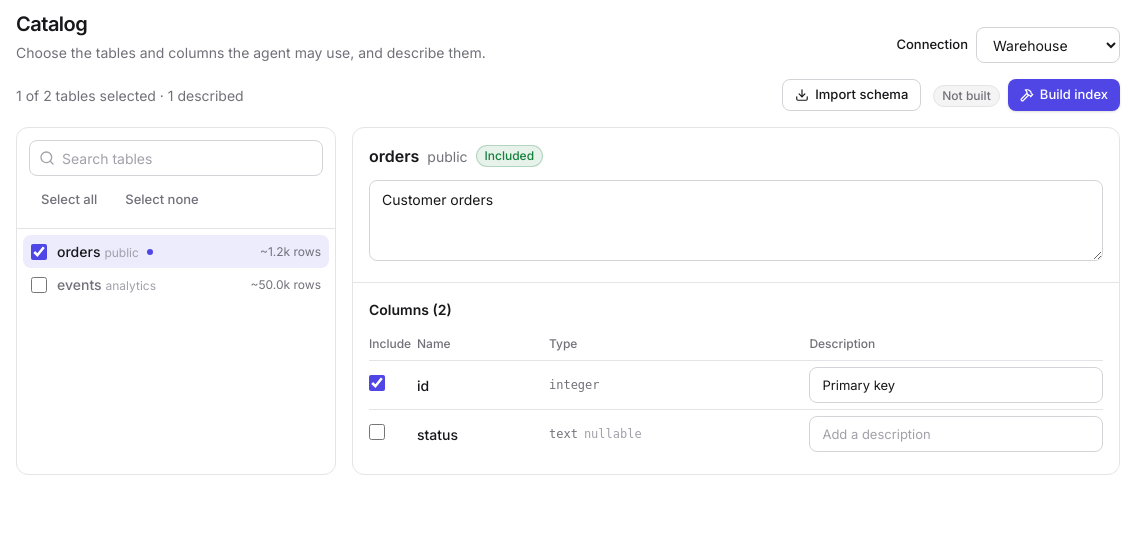
it: table detail and autosave › reverts a column description that fails to save
Expected: the checkbox named "Include public.orders" is shown, [31, 244, 47, 260]
Type "new text" into the field named "Description for public.orders.status" at x=956, y=434, box [809, 416, 1103, 452]
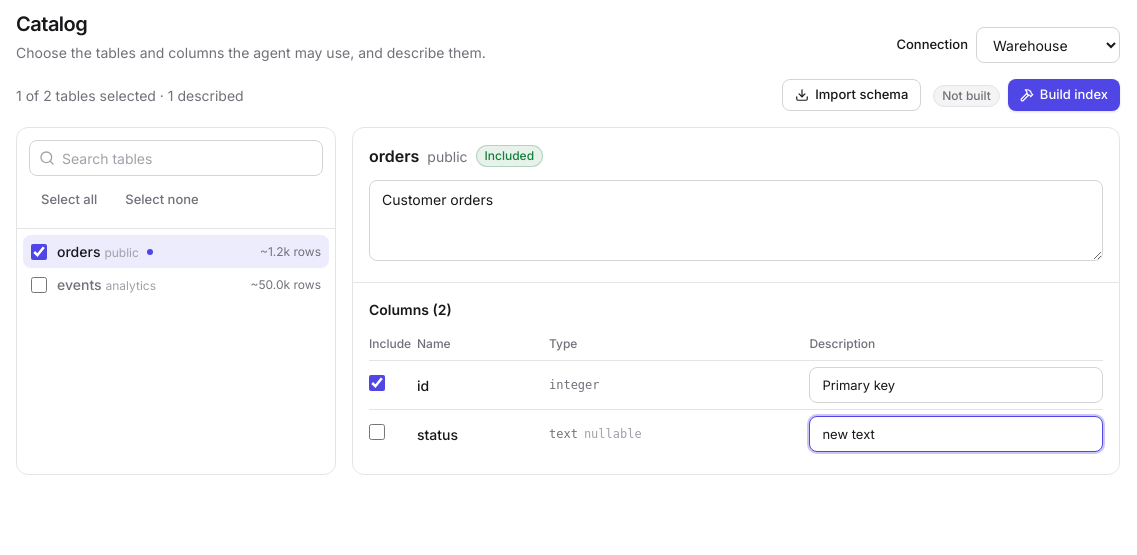
Press Tab
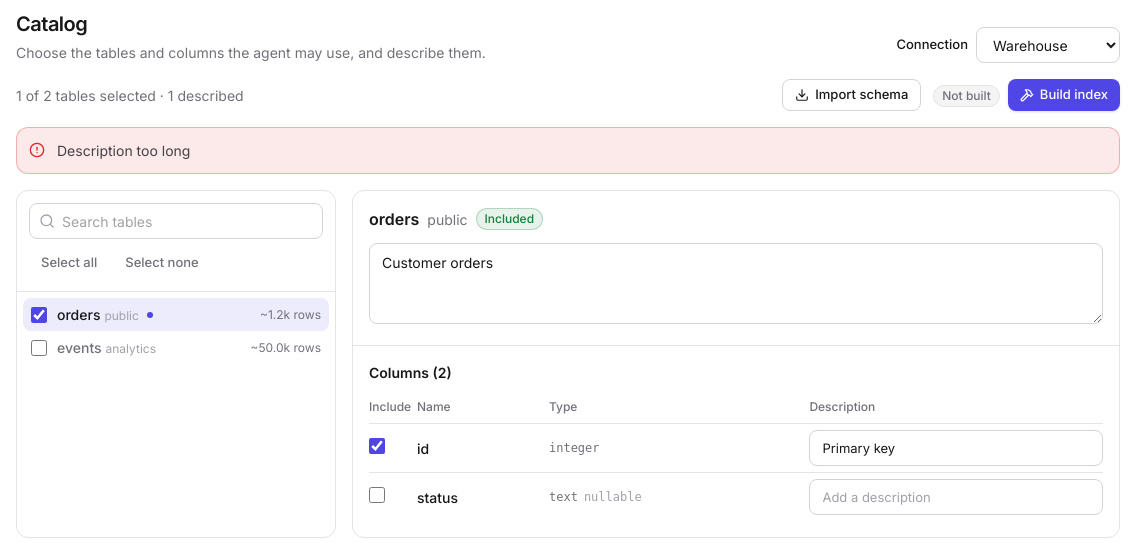
Result: the message "Description too long" is shown at [16, 127, 1120, 174]
Result: the field named "Description for public.orders.status" is empty at [809, 479, 1103, 515]
